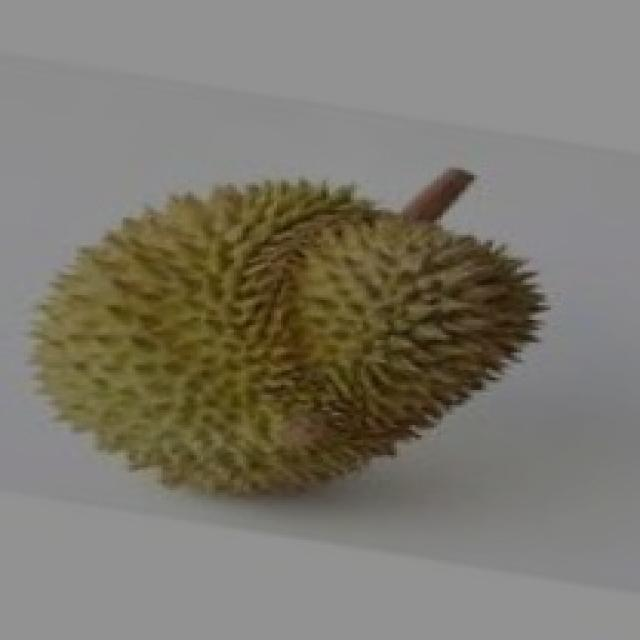fruit: (182, 160, 578, 550), (0, 147, 372, 557)
